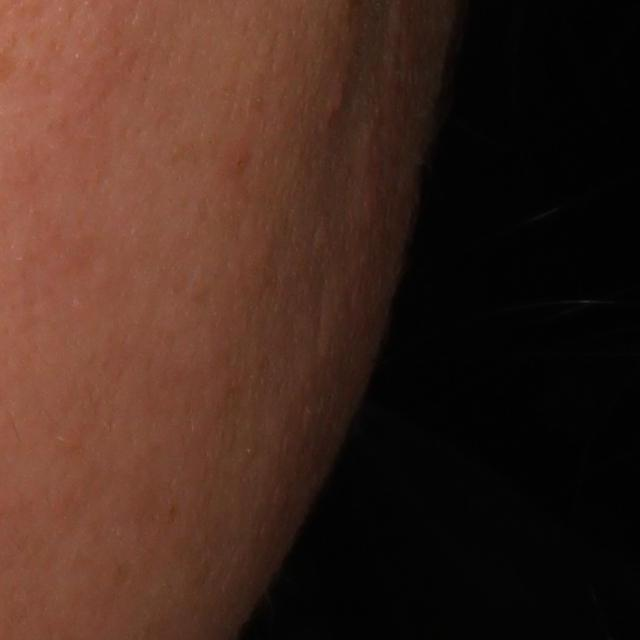papule: (331, 84, 351, 117)
